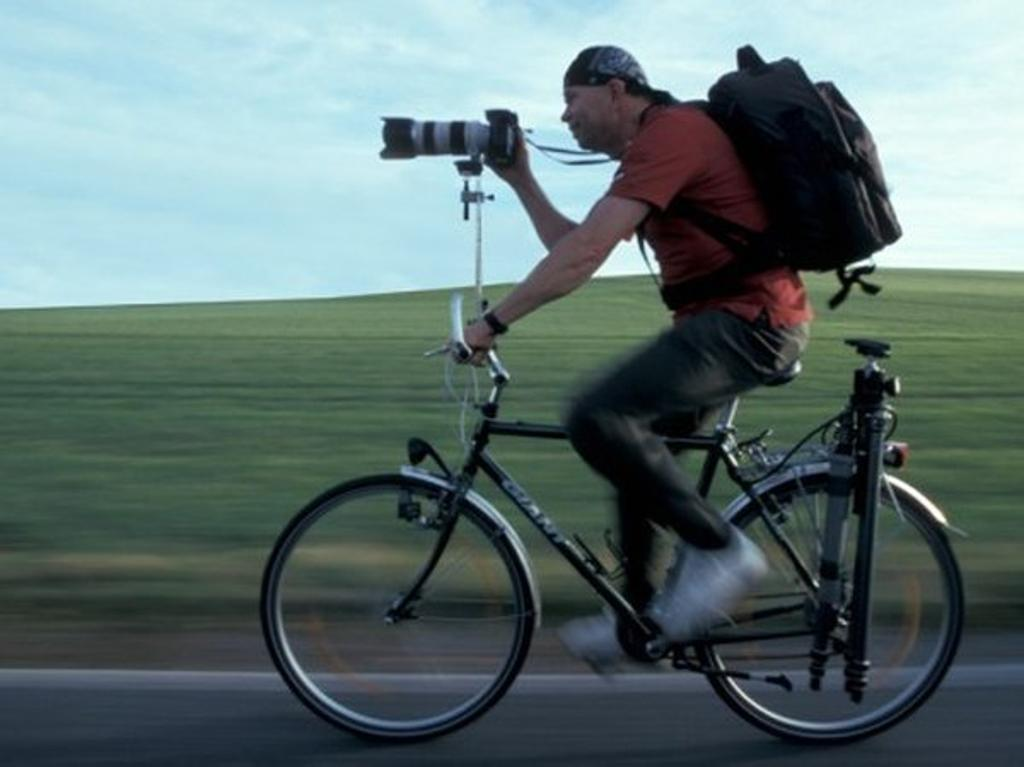face: (558, 74, 616, 152)
